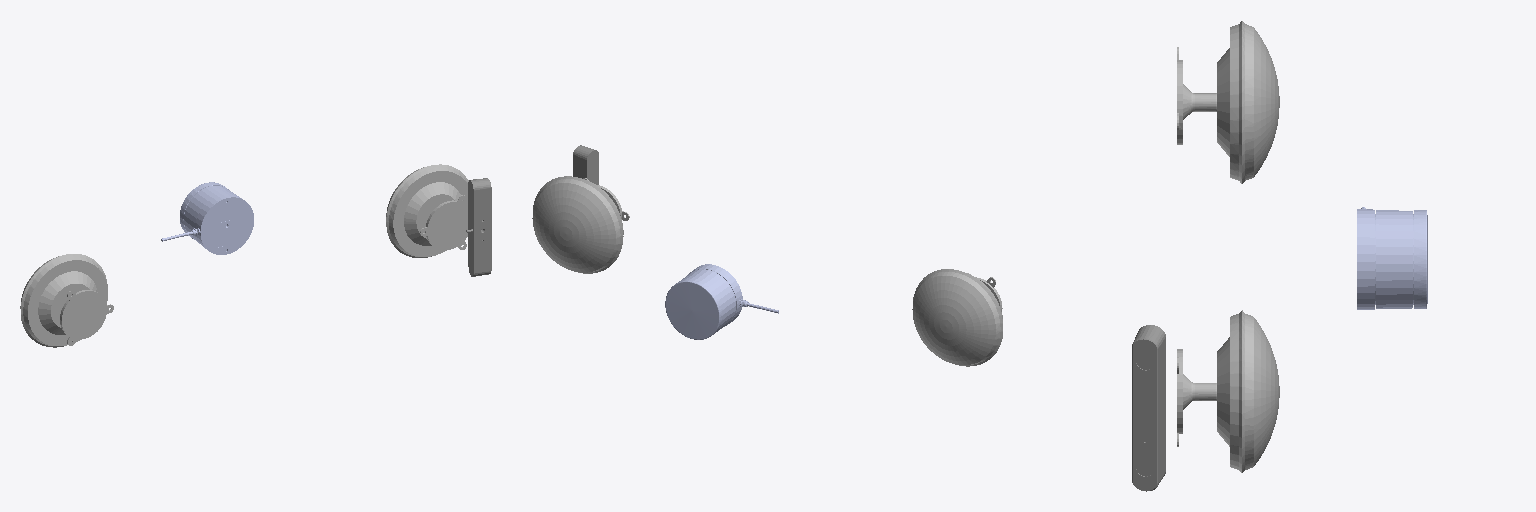
The robot description file, URDF, robot "hunter_self":
<?xml version="1.0" encoding="utf-8"?>
<!-- This URDF was automatically created by SolidWorks to URDF Exporter! Originally created by [author] ([email redacted]) 
     Commit Version: 1.6.0-4-g7f85cfe  Build Version: 1.6.7995.38578
     For more information, please see http://wiki.ros.org/sw_urdf_exporter -->
<robot
  name="hunter_self">
  <link
    name="imu">
    <inertial>
      <origin
        xyz="-0.0102880274365691 0.0993290636796851 -6.92304854288395E-05"
        rpy="0 0 0" />
      <mass
        value="9.62573790254133" />
      <inertia
        ixx="0.0345675058791809"
        ixy="4.48263732536653E-05"
        ixz="-6.01527522965323E-05"
        iyy="0.0708692422669791"
        iyz="-1.26946054719956E-05"
        izz="0.0406161376594187" />
    </inertial>
    <visual>
      <origin
        xyz="0 0 0"
        rpy="0 0 0" />
      <geometry>
        <mesh
          filename="package://hunter_self/meshes/imu.STL" />
      </geometry>
      <material
        name="">
        <color
          rgba="0.752941176470588 0.752941176470588 0.752941176470588 1" />
      </material>
    </visual>
    <collision>
      <origin
        xyz="0 0 0"
        rpy="0 0 0" />
      <geometry>
        <mesh
          filename="package://hunter_self/meshes/imu.STL" />
      </geometry>
    </collision>
  </link>
  <link
    name="ZED">
    <inertial>
      <origin
        xyz="-0.016107603491136 -2.71922496075661E-06 -0.000517891957394379"
        rpy="0 0 0" />
      <mass
        value="0.152258490332087" />
      <inertia
        ixx="0.000372329596495051"
        ixy="2.3551469429661E-09"
        ixz="-1.10324742466511E-07"
        iyy="2.28182494287698E-05"
        iyz="6.51618326958984E-09"
        izz="0.000374737306982768" />
    </inertial>
    <visual>
      <origin
        xyz="0 0 0"
        rpy="0 0 0" />
      <geometry>
        <mesh
          filename="package://hunter_self/meshes/ZED.STL" />
      </geometry>
      <material
        name="">
        <color
          rgba="0.627450980392157 0.627450980392157 0.627450980392157 1" />
      </material>
    </visual>
    <collision>
      <origin
        xyz="0 0 0"
        rpy="0 0 0" />
      <geometry>
        <mesh
          filename="package://hunter_self/meshes/ZED.STL" />
      </geometry>
    </collision>
  </link>
  <joint
    name="imu2ZED"
    type="fixed">
    <origin
      xyz="0.377016067967343 0.146404030146616 -4.9943378971129E-05"
      rpy="-1.57079632679489 0 -0.261822377113013" />
    <parent
      link="imu" />
    <child
      link="ZED" />
    <axis
      xyz="0 0 0" />
  </joint>
  <link
    name="rtk_front">
    <inertial>
      <origin
        xyz="5.86197757002083E-14 -3.64153152077051E-14 0.0629926442551023"
        rpy="0 0 0" />
      <mass
        value="1.10251601732188" />
      <inertia
        ixx="0.00150084463353842"
        ixy="-1.0842021724855E-19"
        ixz="-5.62452718417312E-19"
        iyy="0.00150084463353842"
        iyz="-7.39256972450518E-19"
        izz="0.00258111195272864" />
    </inertial>
    <visual>
      <origin
        xyz="0 0 0"
        rpy="0 0 0" />
      <geometry>
        <mesh
          filename="package://hunter_self/meshes/rtk_front.STL" />
      </geometry>
      <material
        name="">
        <color
          rgba="0.752941176470588 0.752941176470588 0.752941176470588 1" />
      </material>
    </visual>
    <collision>
      <origin
        xyz="0 0 0"
        rpy="0 0 0" />
      <geometry>
        <mesh
          filename="package://hunter_self/meshes/rtk_front.STL" />
      </geometry>
    </collision>
  </link>
  <joint
    name="imu2rtk_front"
    type="fixed">
    <origin
      xyz="0.320680000000001 0.179 -5.0000000002548E-05"
      rpy="-1.5707963267949 0 0" />
    <parent
      link="imu" />
    <child
      link="rtk_front" />
    <axis
      xyz="0 0 0" />
  </joint>
  <link
    name="rtk_back">
    <inertial>
      <origin
        xyz="0 2.66453525910038E-15 0.0629926442551051"
        rpy="0 0 0" />
      <mass
        value="1.10251601732187" />
      <inertia
        ixx="0.0015008446335384"
        ixy="-1.62630325872826E-19"
        ixz="-4.2627856185925E-19"
        iyy="0.0015008446335384"
        iyz="-4.86018849724583E-19"
        izz="0.0025811119527286" />
    </inertial>
    <visual>
      <origin
        xyz="0 0 0"
        rpy="0 0 0" />
      <geometry>
        <mesh
          filename="package://hunter_self/meshes/rtk_back.STL" />
      </geometry>
      <material
        name="">
        <color
          rgba="0.752941176470588 0.752941176470588 0.752941176470588 1" />
      </material>
    </visual>
    <collision>
      <origin
        xyz="0 0 0"
        rpy="0 0 0" />
      <geometry>
        <mesh
          filename="package://hunter_self/meshes/rtk_back.STL" />
      </geometry>
    </collision>
  </link>
  <joint
    name="imu2rtk_back"
    type="fixed">
    <origin
      xyz="-0.37932000000008 0.178999999999998 -5.00000000664969E-05"
      rpy="-1.5707963267949 0 0" />
    <parent
      link="imu" />
    <child
      link="rtk_back" />
    <axis
      xyz="0 0 0" />
  </joint>
  <link
    name="vlp">
    <inertial>
      <origin
        xyz="-0.000294784572360651 -2.5801771492695E-06 0.0357745256715885"
        rpy="0 0 0" />
      <mass
        value="0.585082155092443" />
      <inertia
        ixx="0.000629066958885107"
        ixy="1.1291564505514E-10"
        ixz="6.84862392776488E-08"
        iyy="0.000630263916092117"
        iyz="-5.00500254304793E-08"
        izz="0.000749251775812556" />
    </inertial>
    <visual>
      <origin
        xyz="0 0 0"
        rpy="0 0 0" />
      <geometry>
        <mesh
          filename="package://hunter_self/meshes/vlp.STL" />
      </geometry>
      <material
        name="">
        <color
          rgba="0.792156862745098 0.819607843137255 0.933333333333333 1" />
      </material>
    </visual>
    <collision>
      <origin
        xyz="0 0 0"
        rpy="0 0 0" />
      <geometry>
        <mesh
          filename="package://hunter_self/meshes/vlp.STL" />
      </geometry>
    </collision>
  </link>
  <joint
    name="imu2vlp"
    type="fixed">
    <origin
      xyz="0.000681587736344191 0.362999999999995 -5.00000001224521E-05"
      rpy="-1.5707963267949 0 0" />
    <parent
      link="imu" />
    <child
      link="vlp" />
    <axis
      xyz="0 0 0" />
  </joint>
  <link
    name="livox">
    <inertial>
      <origin
        xyz="-0.0580540411673436 1.50914756567033E-05 -0.0127132680006796"
        rpy="0 0 0" />
      <mass
        value="0.732248175141318" />
      <inertia
        ixx="0.000549654923963519"
        ixy="1.42145193411055E-06"
        ixz="-9.65869949643662E-06"
        iyy="0.000965376397688835"
        iyz="4.19157243552525E-06"
        izz="0.0011291561864709" />
    </inertial>
    <visual>
      <origin
        xyz="0 0 0"
        rpy="0 0 0" />
      <geometry>
        <mesh
          filename="package://hunter_self/meshes/livox.STL" />
      </geometry>
      <material
        name="">
        <color
          rgba="0.792156862745098 0.819607843137255 0.933333333333333 1" />
      </material>
    </visual>
    <collision>
      <origin
        xyz="0 0 0"
        rpy="0 0 0" />
      <geometry>
        <mesh
          filename="package://hunter_self/meshes/livox.STL" />
      </geometry>
    </collision>
  </link>
  <joint
    name="imu2livox"
    type="fixed">
    <origin
      xyz="0.0835272864611989 0.528956093524004 -5.00000014973523E-05"
      rpy="-1.54441826879916 0 -0.349065850396752" />
    <parent
      link="imu" />
    <child
      link="livox" />
    <axis
      xyz="0 0 0" />
  </joint>
</robot>

--- Facts derived from the render (not from the file) ---
3 views of the same robot in one strip: view 1: azimuth 30°, elevation 25°; view 2: azimuth 150°, elevation 25°; view 3: azimuth 270°, elevation 25° (orthographic).
Robot: hunter_self — 6 links, 5 joints (5 fixed); root link imu; default pose: every joint at zero.
Visible links, largest first — view 1: rtk_back, rtk_front, vlp, ZED; view 2: rtk_front, rtk_back, vlp, ZED; view 3: rtk_back, rtk_front, vlp, ZED.
Boxes of the visible links, bbox=[...] form: rtk_back: bbox=[20, 254, 113, 347]; rtk_front: bbox=[386, 164, 468, 257]; vlp: bbox=[161, 182, 253, 254]; ZED: bbox=[466, 178, 491, 276]; rtk_front: bbox=[532, 176, 629, 273]; rtk_back: bbox=[912, 269, 1002, 366]; vlp: bbox=[665, 264, 778, 339]; ZED: bbox=[573, 145, 598, 184]; rtk_back: bbox=[1177, 21, 1279, 183]; rtk_front: bbox=[1177, 310, 1279, 472]; vlp: bbox=[1357, 207, 1427, 309]; ZED: bbox=[1132, 325, 1165, 491].
Bounding box of the posed robot: 0.8676 × 0.3027 × 0.1747 m (x, y, z).
4 mesh visuals loaded from 6 distinct referenced files (4 binary STL); not drawn: 2 (reference not matched to a file when rendering).
